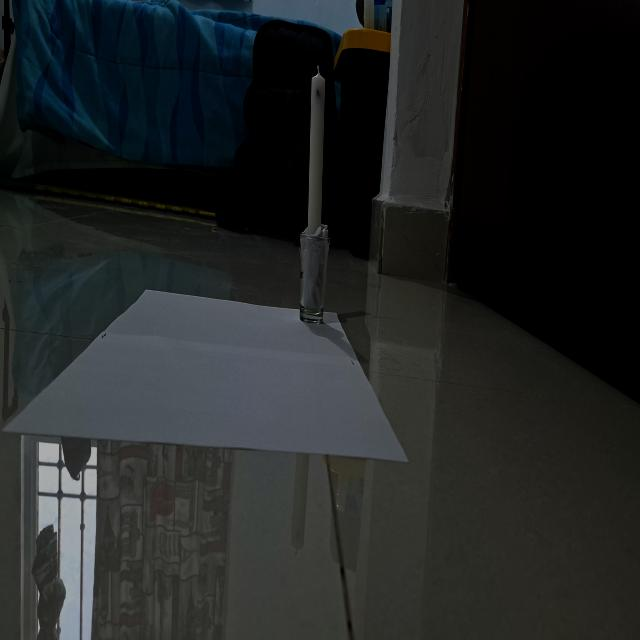candle: (294, 61, 336, 335)
